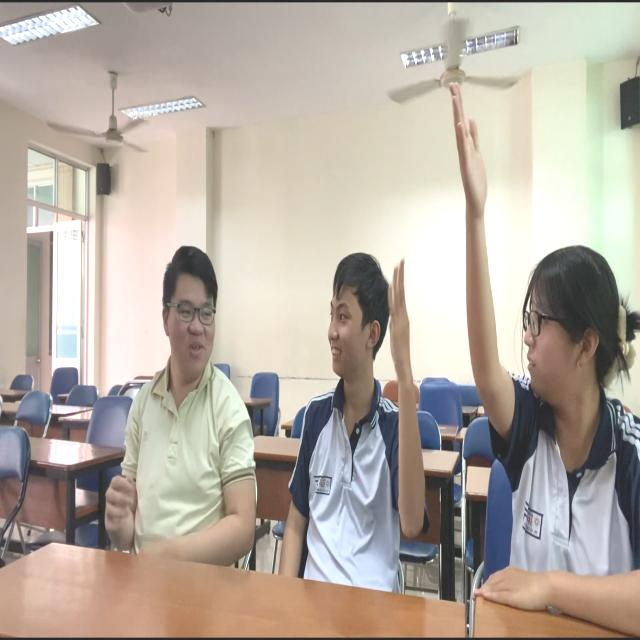raise_hand: (443, 66, 640, 640), (286, 238, 432, 612)
